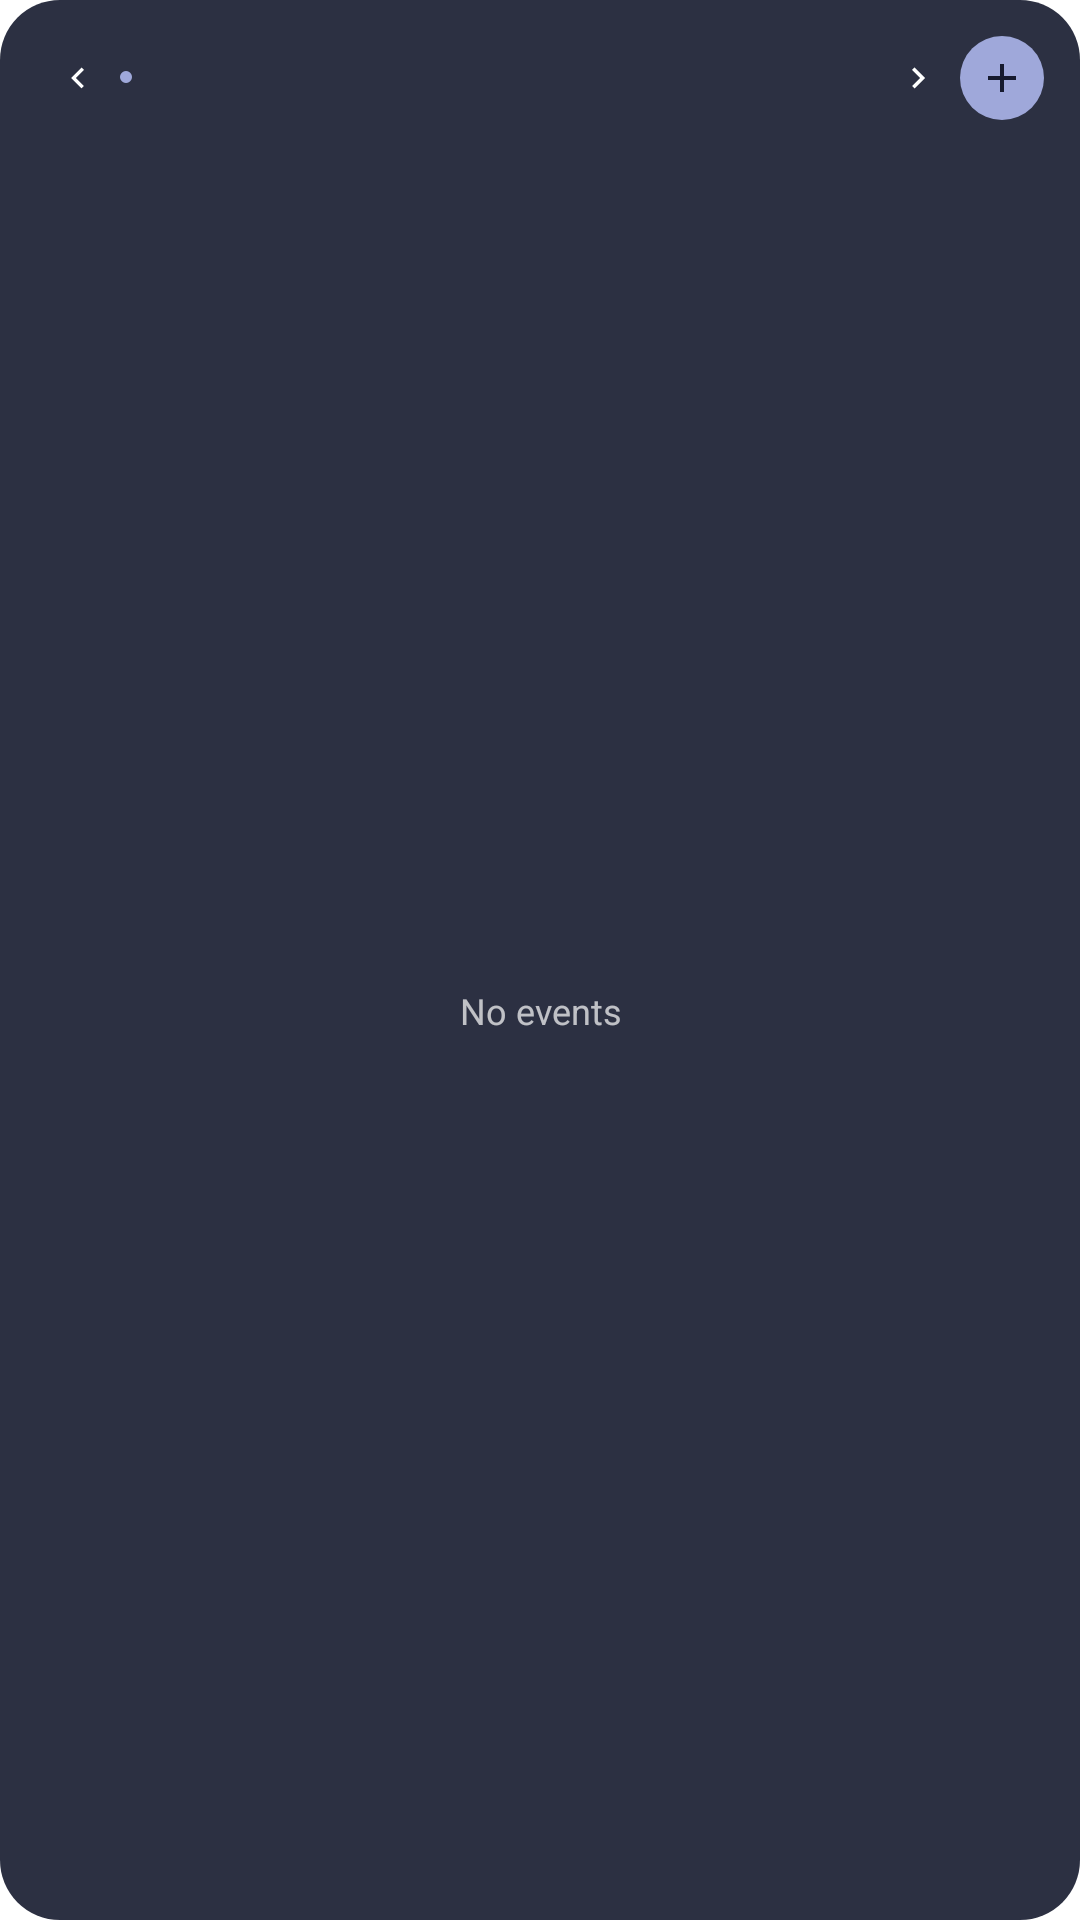

Where to tap for icons on this 1080x1920 app screen, as (x=x, y=y):
New event: (x=1002, y=78)
